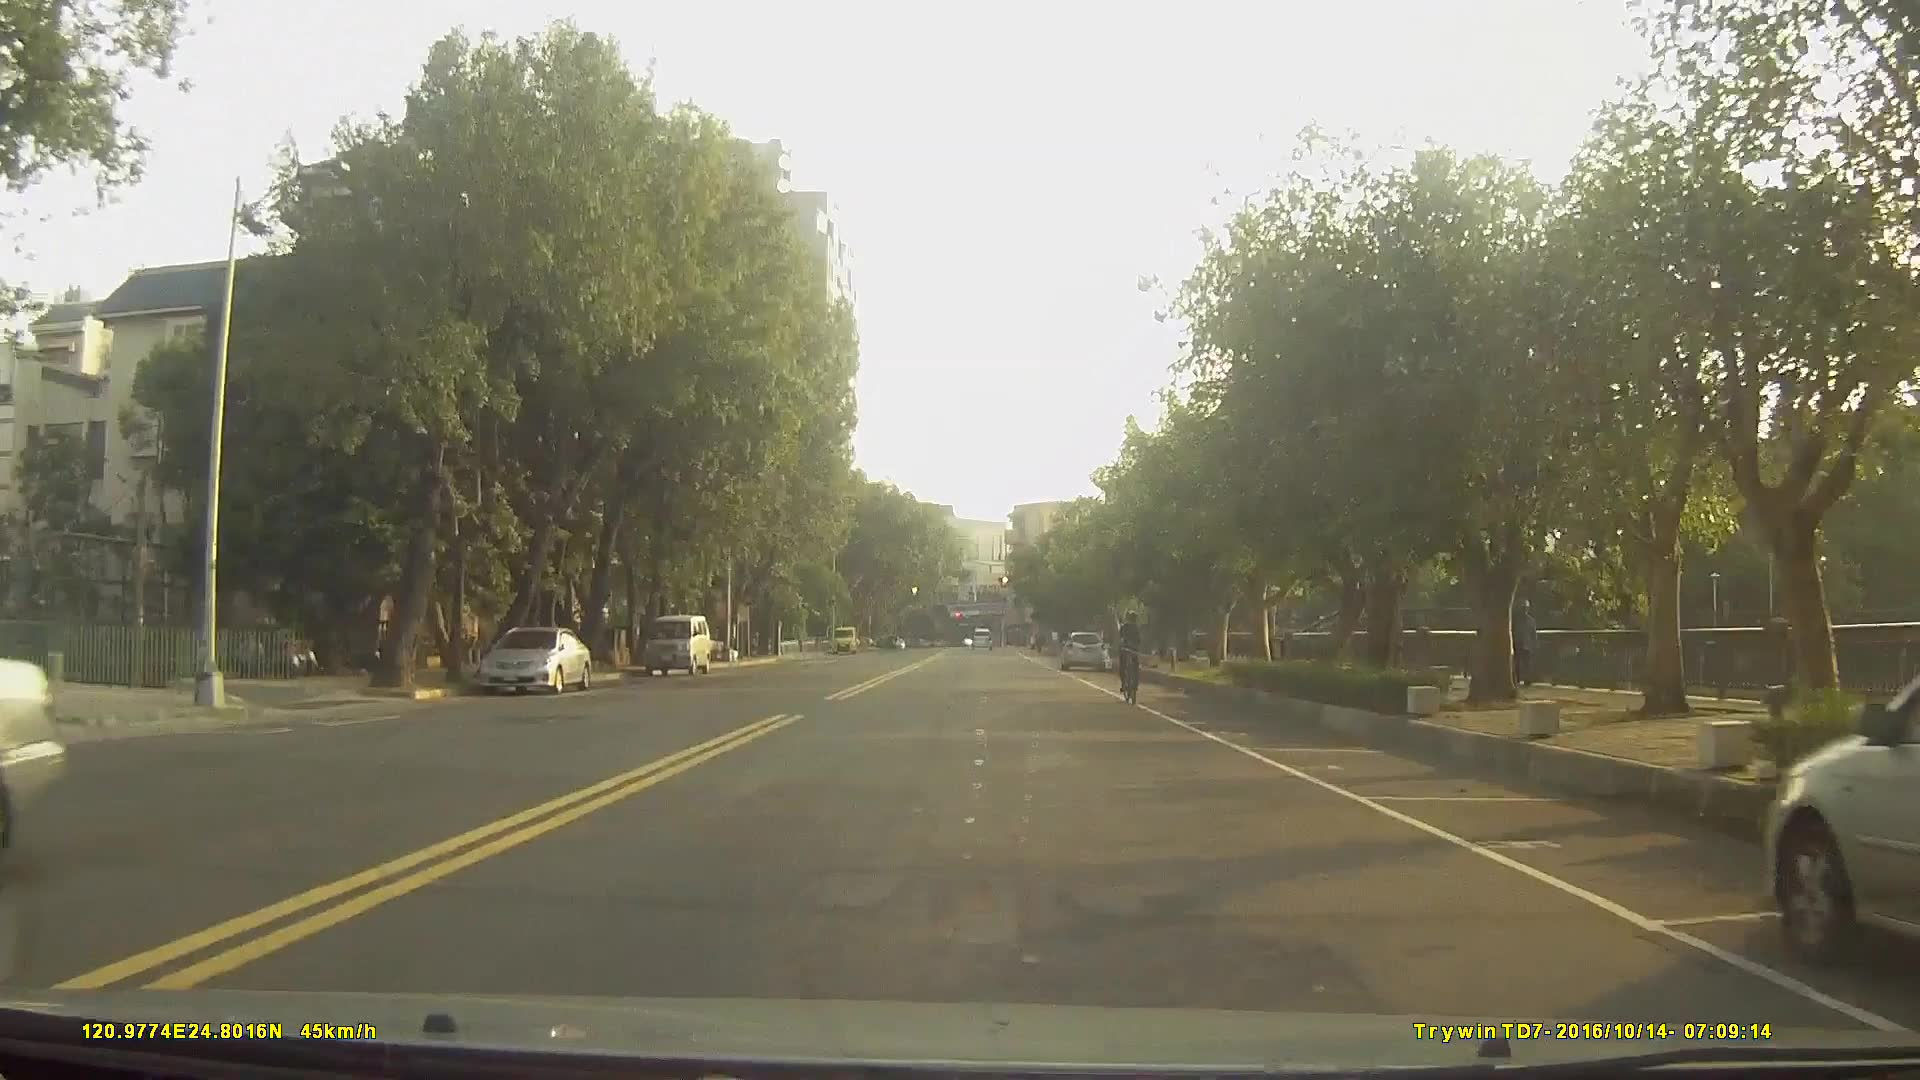rider: (1113, 613, 1146, 710)
vehicle: (1767, 673, 1920, 970), (475, 625, 591, 694), (641, 613, 712, 678), (1058, 629, 1107, 670), (968, 626, 993, 652)
